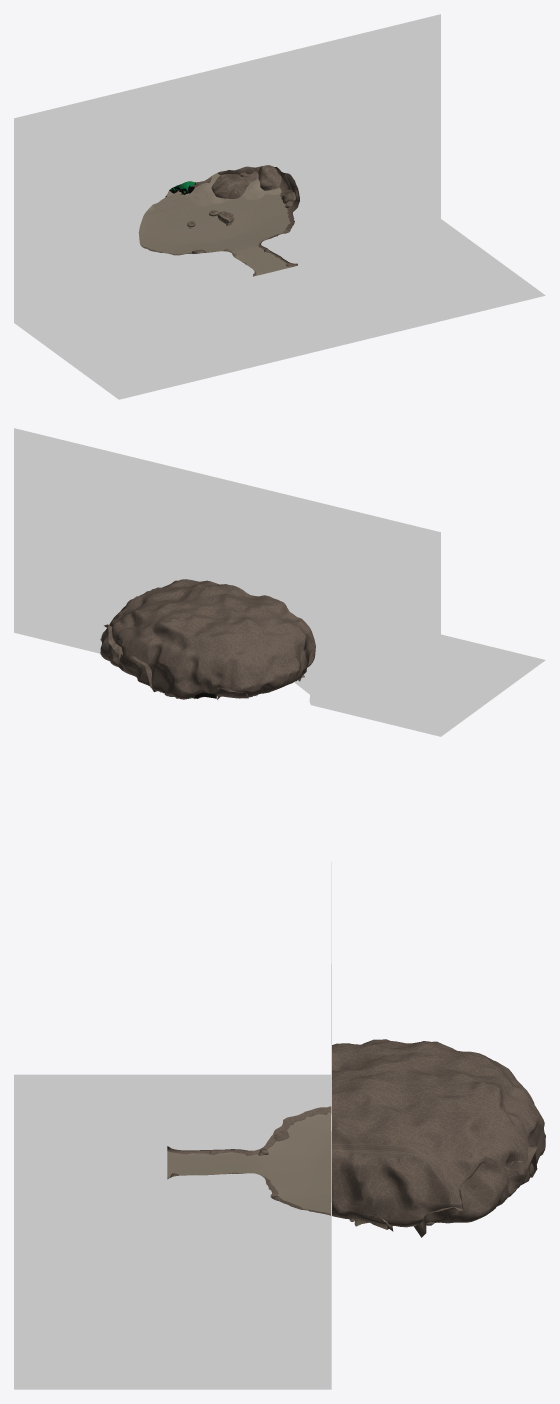
Rendered from a_com_nushi01.gltf.
3 renders of one model, top to bottom at view 1: azimuth 30°, elevation 25°; view 2: azimuth 150°, elevation 25°; view 3: azimuth 270°, elevation 25°, orthographic. The views are drawn at different scales.
Parts seen in each view (by area): view 1: base_outside_shape__duprename_441c691x:a_com_nushi01_outside, cave_shape:ground_un_area06_cave01_04_mat, largerock_02_shape:a_com_nushi01_rock01_02, sediment_03_shape:ground_un_area06_cave01_04_df_mat, largerock_04_shape:a_com_nushi01_rock01_02, cave_shape:ground_un_area06_cave01_01_mat; view 2: base_outside_shape__duprename_441c691x:a_com_nushi01_outside, cave_shape:ground_un_area06_cave01_03_mat; view 3: base_outside_shape__duprename_441c691x:a_com_nushi01_outside, cave_shape:ground_un_area06_cave01_03_mat, cave_shape:ground_un_area06_cave01_04_mat, cave_shape:ground_un_area06_cave01_01_mat.
Part boxes in pixels (x1,y1,x2,y2): base_outside_shape__duprename_441c691x:a_com_nushi01_outside: (14,14,545,399); cave_shape:ground_un_area06_cave01_04_mat: (138,190,291,275); largerock_02_shape:a_com_nushi01_rock01_02: (211,171,258,198); sediment_03_shape:ground_un_area06_cave01_04_df_mat: (183,173,229,206); largerock_04_shape:a_com_nushi01_rock01_02: (258,165,281,190); cave_shape:ground_un_area06_cave01_01_mat: (141,187,297,276); base_outside_shape__duprename_441c691x:a_com_nushi01_outside: (14,428,545,736); cave_shape:ground_un_area06_cave01_03_mat: (100,579,315,698); base_outside_shape__duprename_441c691x:a_com_nushi01_outside: (14,862,331,1389); cave_shape:ground_un_area06_cave01_03_mat: (330,1039,545,1226); cave_shape:ground_un_area06_cave01_04_mat: (167,1112,331,1213); cave_shape:ground_un_area06_cave01_01_mat: (167,1106,532,1222).
Size of the model in its own units: 56.48 by 25.87 by 40.31.
9 materials, 8 textured.
